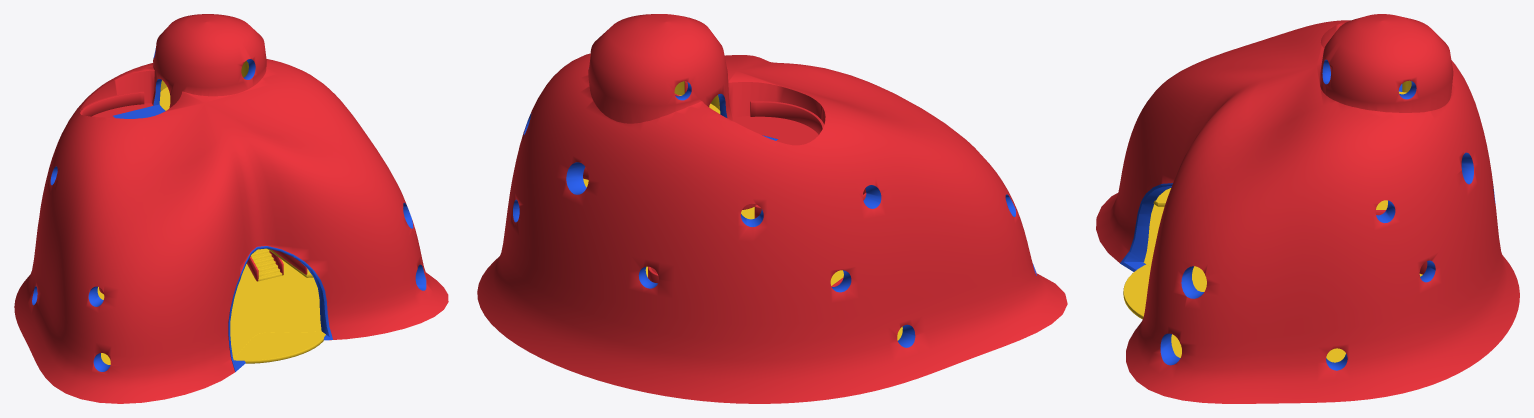
The model's file is adobe_office.glb.
3 renders of one model, left to right at view 1: azimuth 30°, elevation 25°; view 2: azimuth 150°, elevation 25°; view 3: azimuth 270°, elevation 25°, orthographic. The views are drawn at different scales.
Visible parts, largest first — view 1: 10 • Pavilion Corporation / Four-Level Blob HQ, 10 • Office floor 1, 10 • Central entrance pavilion floor, 10 • Flat roof pavilion parapet, 10 • Main outward stair.002; view 2: 10 • Pavilion Corporation / Four-Level Blob HQ, 10 • Flat roof pavilion parapet; view 3: 10 • Pavilion Corporation / Four-Level Blob HQ, 10 • Central entrance pavilion floor, 10 • Office floor 1, 10 • Office floor 2.
Part boxes in pixels (left/top/right/bottom): 10 • Pavilion Corporation / Four-Level Blob HQ: left=14, top=14, right=448, bottom=403; 10 • Office floor 1: left=101, top=259, right=321, bottom=364; 10 • Central entrance pavilion floor: left=233, top=331, right=325, bottom=363; 10 • Flat roof pavilion parapet: left=80, top=91, right=144, bottom=116; 10 • Main outward stair.002: left=246, top=248, right=282, bottom=281; 10 • Pavilion Corporation / Four-Level Blob HQ: left=477, top=14, right=1067, bottom=403; 10 • Flat roof pavilion parapet: left=750, top=101, right=824, bottom=134; 10 • Pavilion Corporation / Four-Level Blob HQ: left=1096, top=14, right=1519, bottom=403; 10 • Central entrance pavilion floor: left=1123, top=264, right=1150, bottom=319; 10 • Office floor 1: left=1143, top=204, right=1345, bottom=362; 10 • Office floor 2: left=1153, top=188, right=1422, bottom=291.
Bounding box in the file's own units: 31.41 × 18.86 × 24.91.
